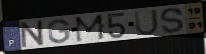5: (105, 12, 127, 40)
G: (47, 18, 71, 44)
M: (74, 13, 107, 44)
N: (20, 18, 47, 49)
S: (159, 6, 186, 34)
U: (133, 8, 160, 37)
